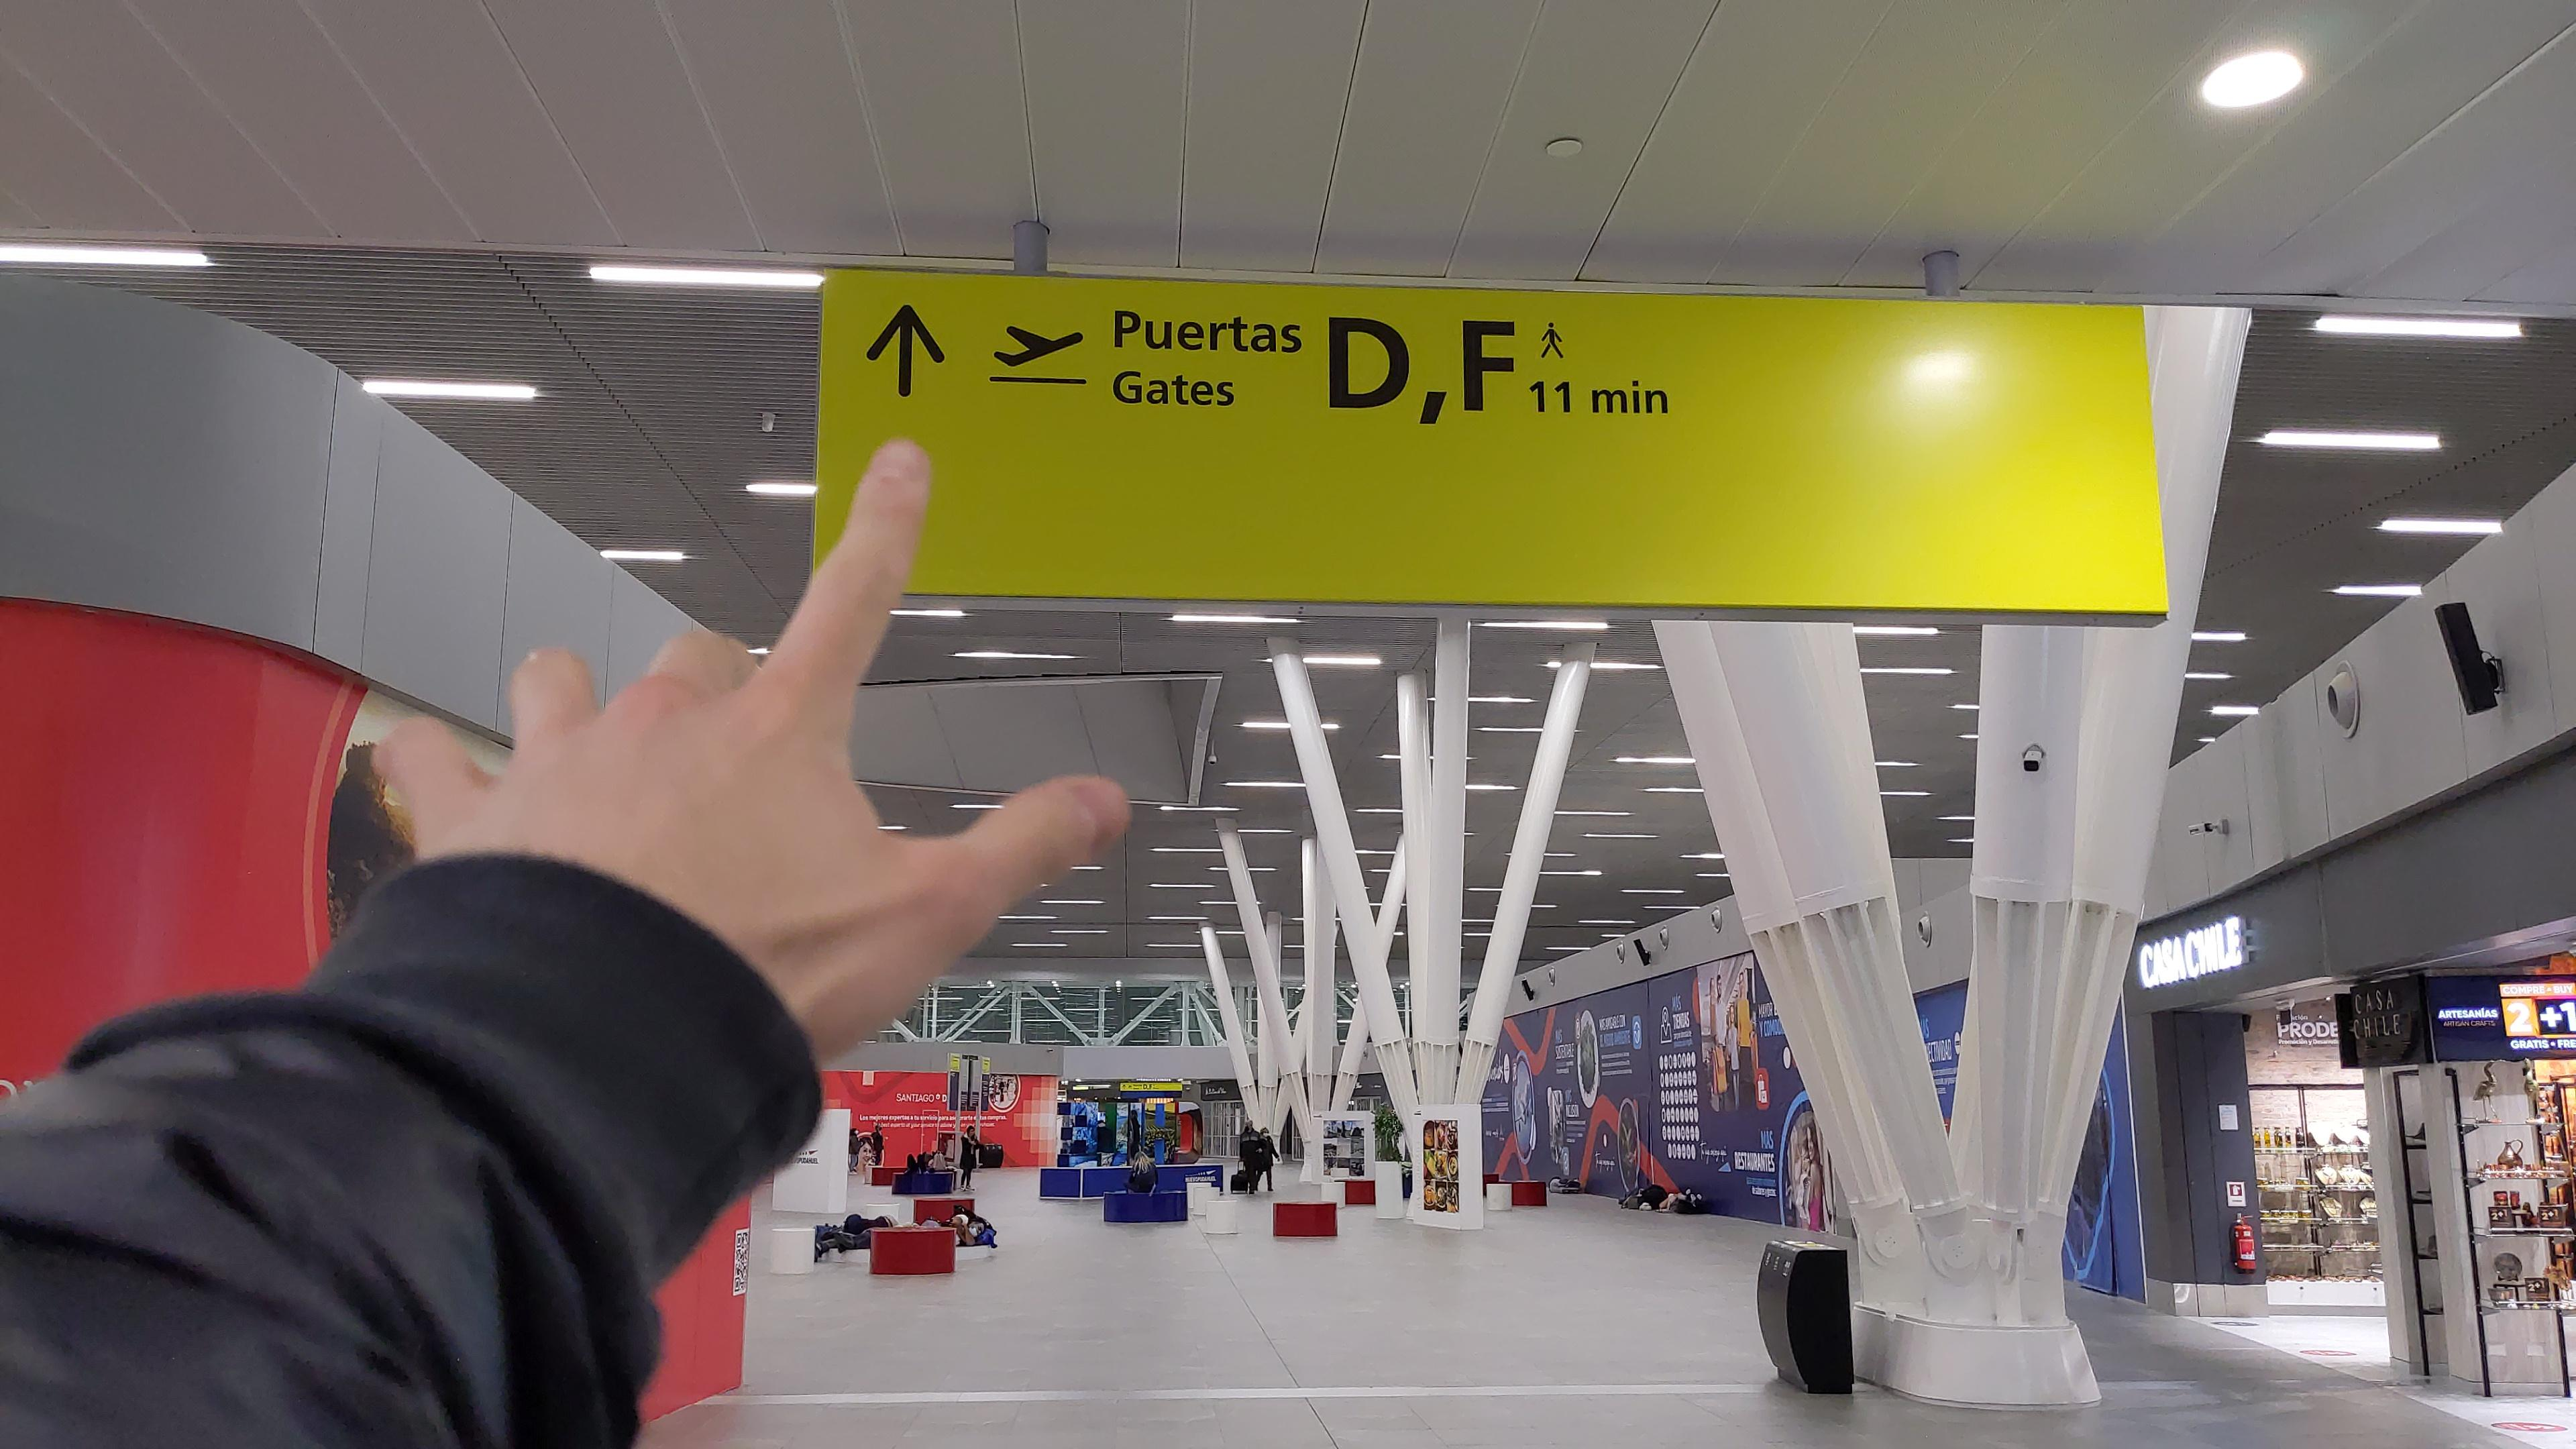airplane symbol: (989, 322, 1086, 372)
thin up arrow: (865, 299, 948, 400)
